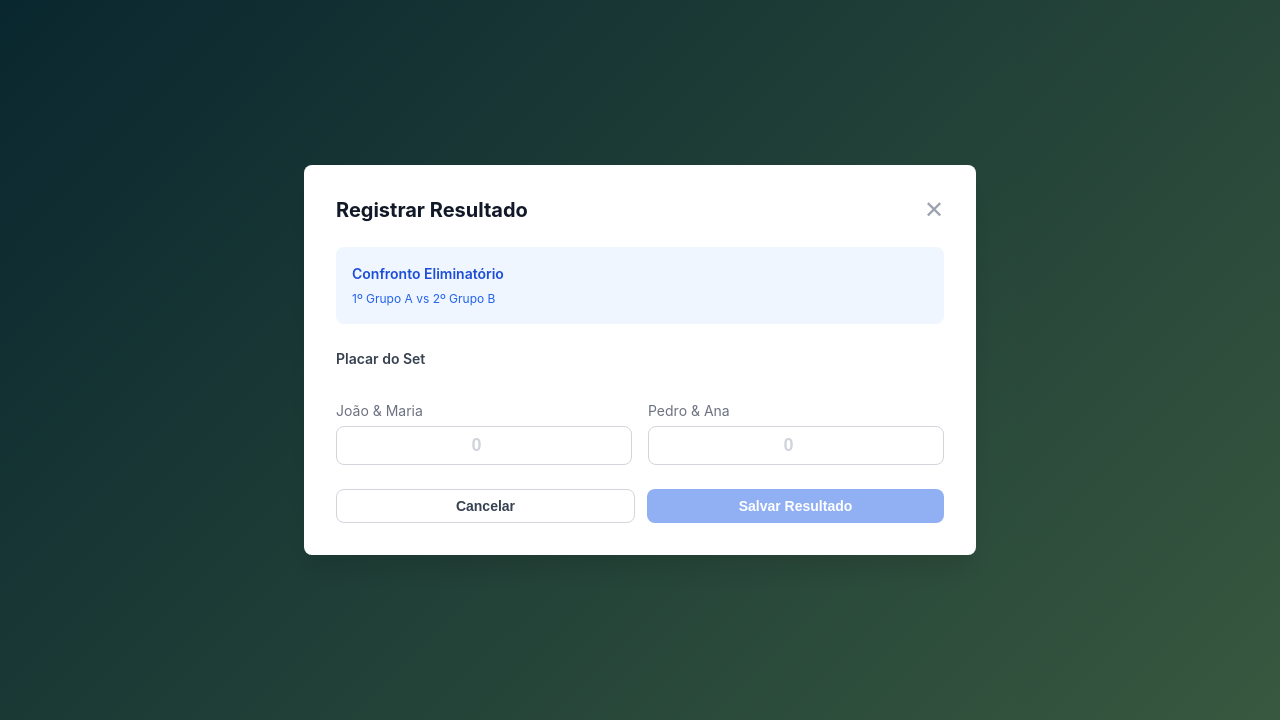
ModalRegistrarResultadoEliminatorio › cálculo de vencedor › deve habilitar botão de salvar quando placar válido com vencedor
In the number field with placeholder "0" below "João & Maria": (484, 446) [336,426,632,466], type "6"
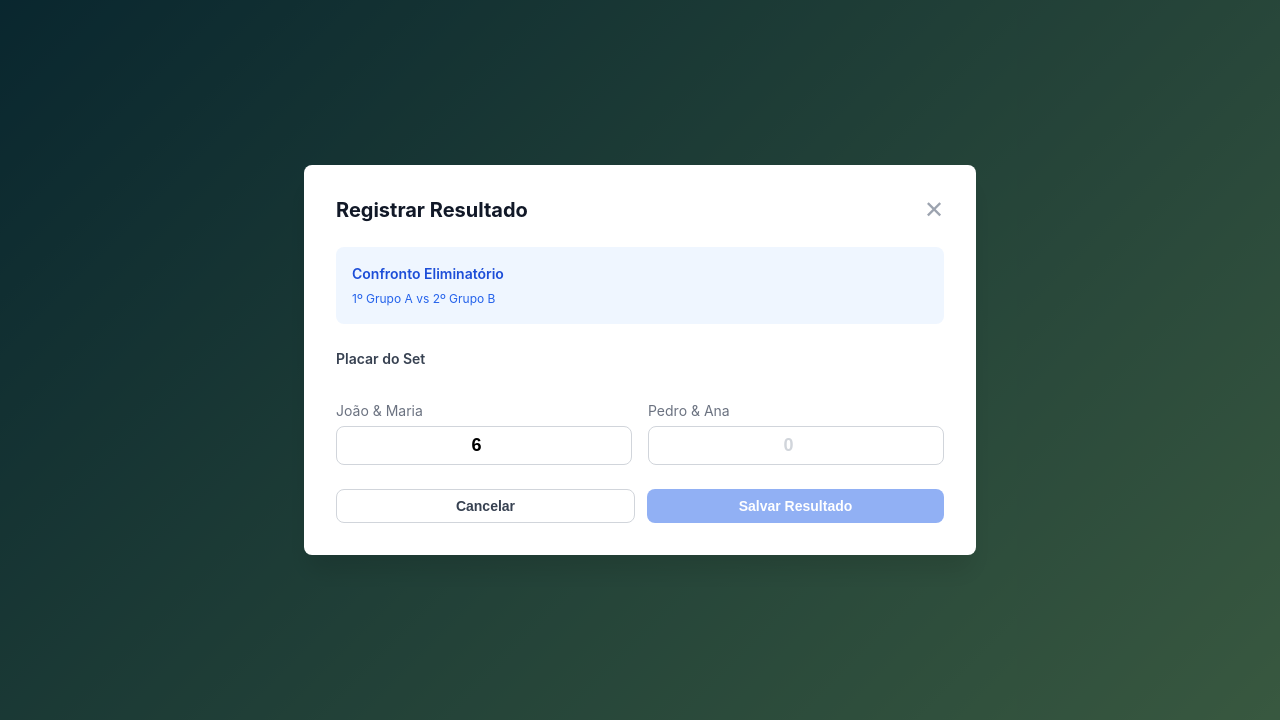
In the number field with placeholder "0": (796, 446) [648,426,944,466], type "4"
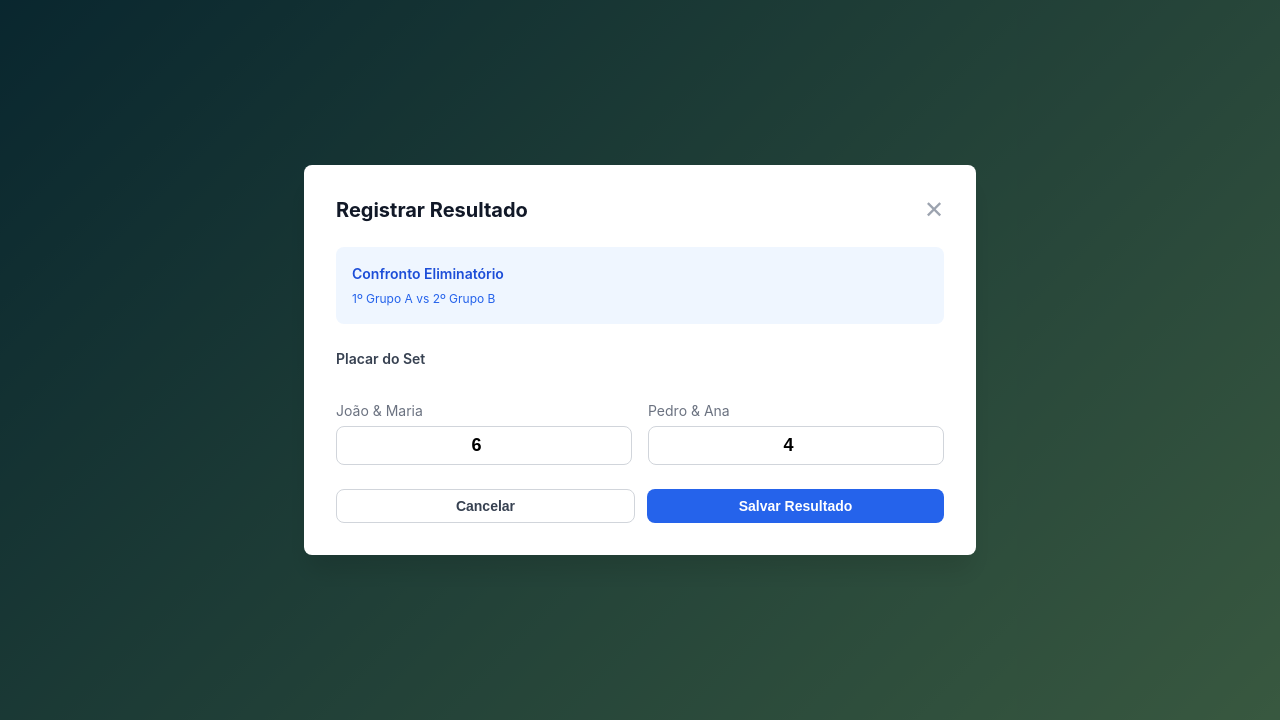
Result: the button "Salvar Resultado" is enabled at [647,490,944,524]
